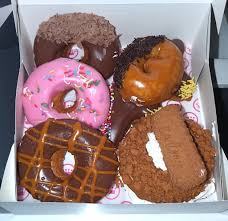Donut: (15, 120, 117, 205), (30, 7, 124, 83), (20, 58, 113, 134)
